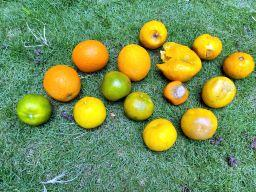orange: (156, 42, 203, 81), (42, 64, 82, 102), (116, 43, 152, 82), (71, 39, 108, 74), (16, 93, 53, 126), (180, 108, 218, 140), (73, 96, 107, 130), (201, 76, 237, 108), (144, 119, 177, 152), (101, 71, 132, 102), (223, 51, 255, 80), (139, 19, 168, 50), (125, 92, 154, 121), (193, 33, 222, 61), (163, 81, 189, 106)
